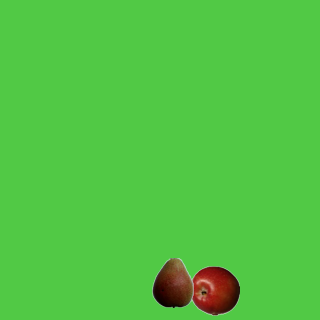Apple Braeburn: (189, 265, 239, 315)
Pear Forelle: (147, 257, 197, 307)
